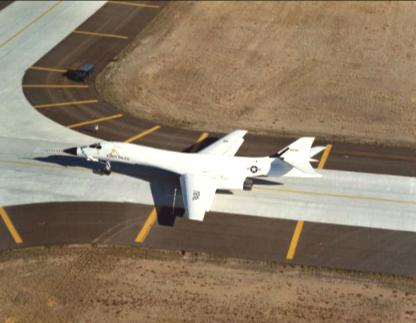AV8B: (41, 128, 328, 220)
